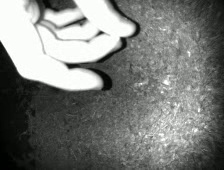corn: (108, 31, 121, 43)
